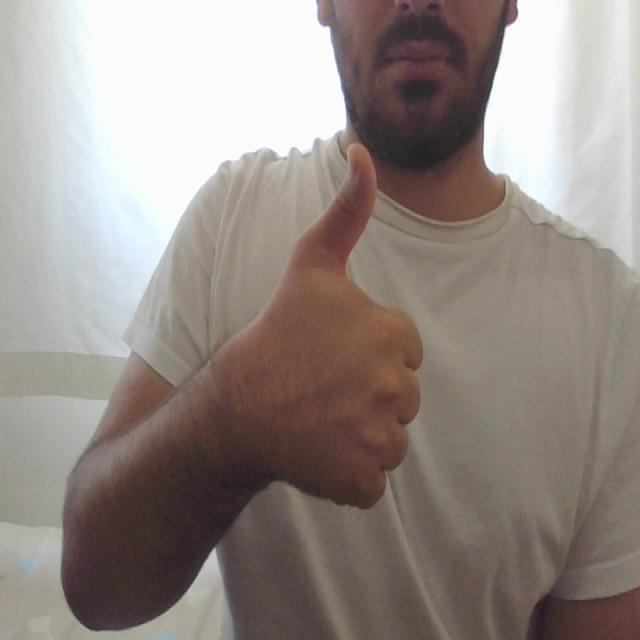Tamam: (234, 139, 426, 510)
